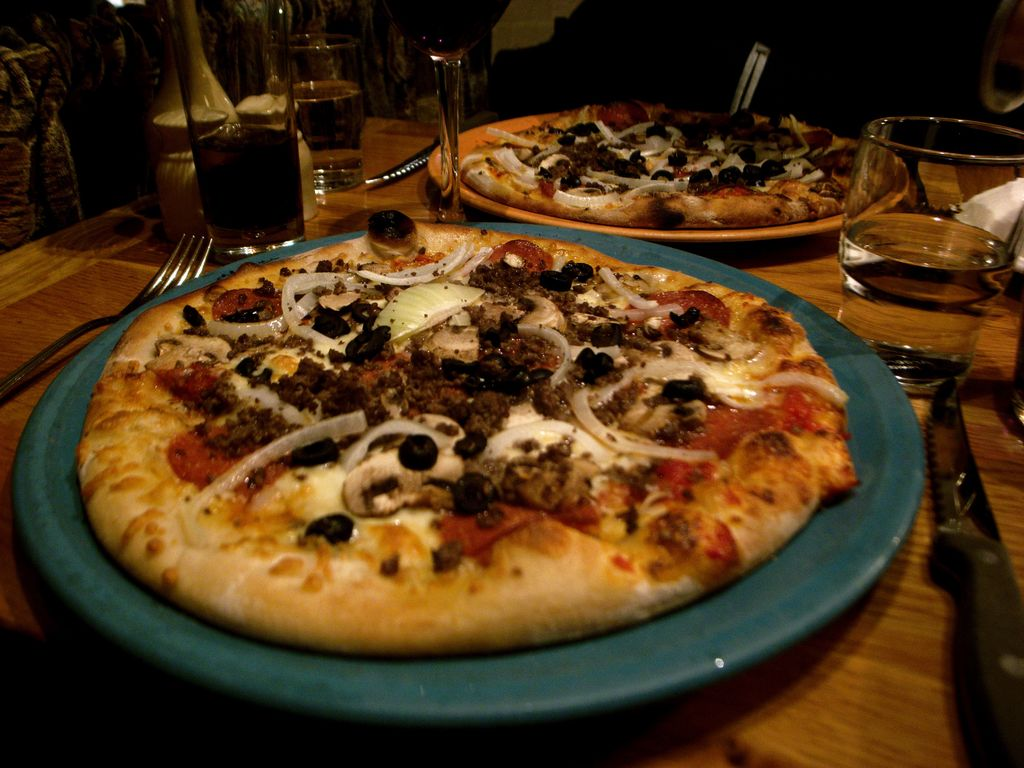Pizza: (87, 229, 848, 643), (458, 102, 903, 231)
